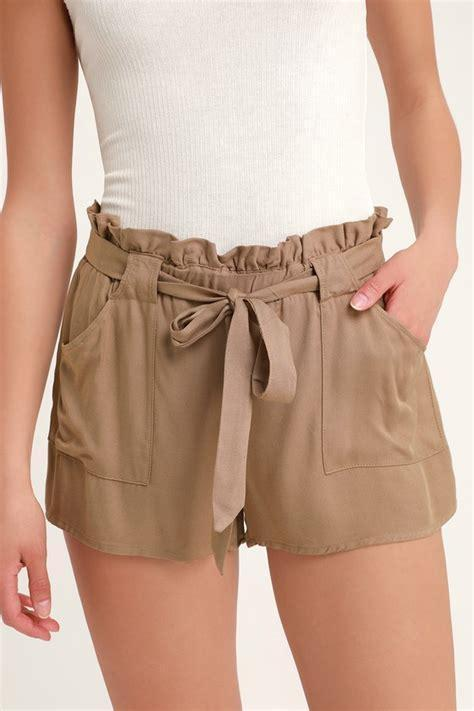short: (46, 200, 457, 560)
